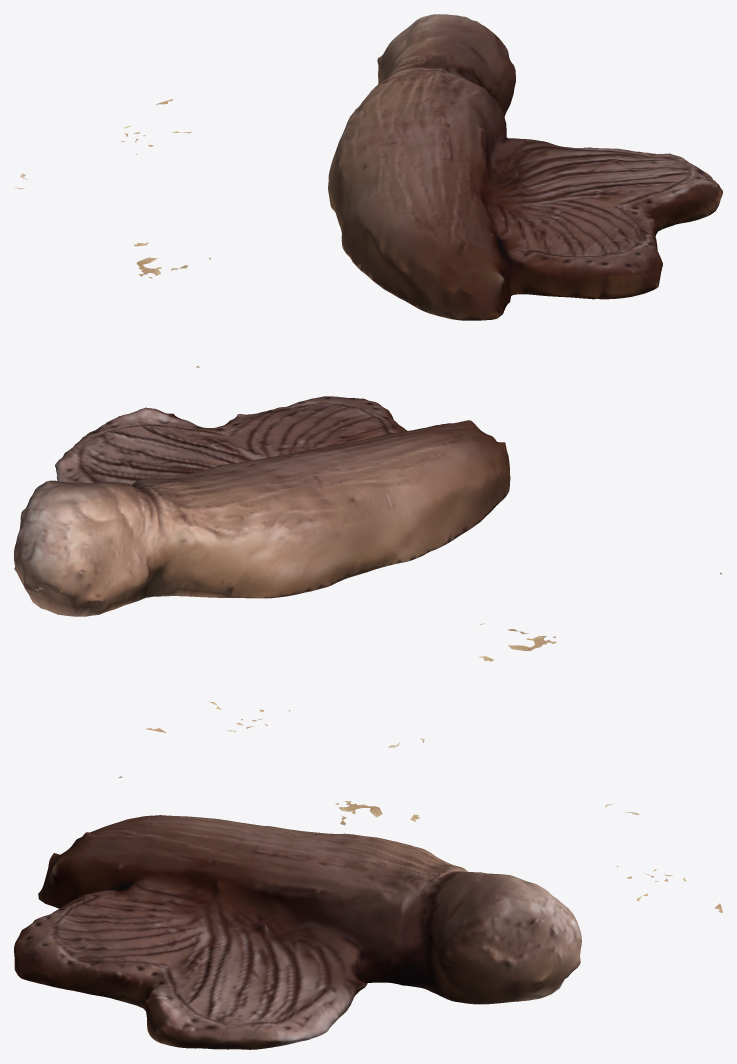
The model's file is Jessica.glb.
3 views of the same model, one above another, from view 1: azimuth 30°, elevation 25°; view 2: azimuth 150°, elevation 25°; view 3: azimuth 270°, elevation 25° (orthographic). The views are drawn at different scales.
Parts seen in each view (by area): view 1: mesh; view 2: mesh; view 3: mesh.
Boxes of the visible parts, x1,y1,x2,y2 form: mesh: (15, 14, 722, 367); mesh: (14, 396, 722, 747); mesh: (14, 776, 722, 1049).
Size of the model in its own units: 0.1557 by 0.0296 by 0.1611.
1 material, 1 textured.
